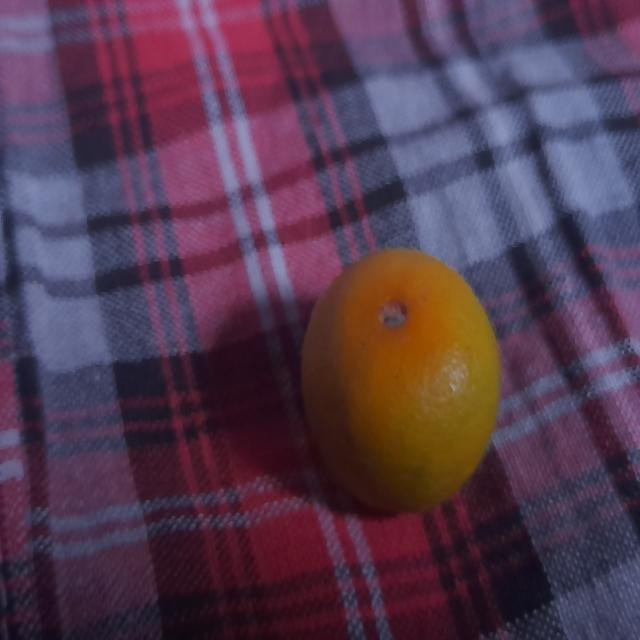greening: (298, 247, 506, 523)
